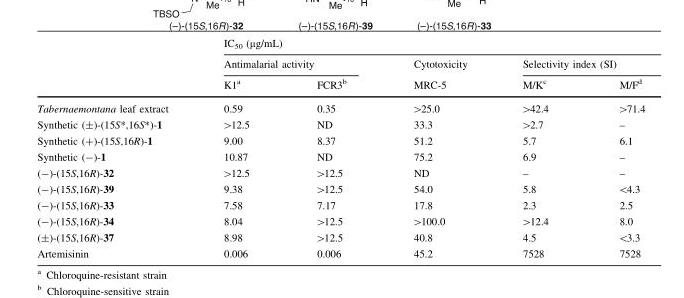table: (36, 37, 644, 258)
table column: (36, 37, 194, 258), (378, 37, 493, 258), (281, 37, 378, 258), (493, 37, 582, 258), (194, 37, 281, 258), (582, 37, 644, 258)
table column header: (36, 37, 644, 95)
table row: (36, 73, 644, 95), (36, 95, 644, 116), (36, 54, 644, 73), (36, 37, 644, 54), (36, 116, 644, 133), (36, 180, 644, 197), (36, 212, 644, 229), (36, 229, 644, 246), (36, 148, 644, 164), (36, 164, 644, 180), (36, 133, 644, 148), (36, 197, 644, 212), (36, 246, 644, 258)
table spanning cell: (194, 37, 644, 54), (378, 54, 493, 95), (194, 54, 378, 73), (493, 54, 644, 73)
